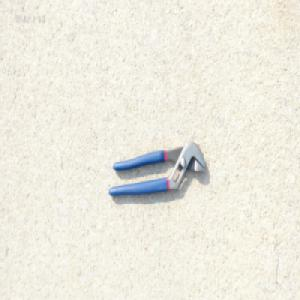Pliers: (107, 141, 206, 198)
